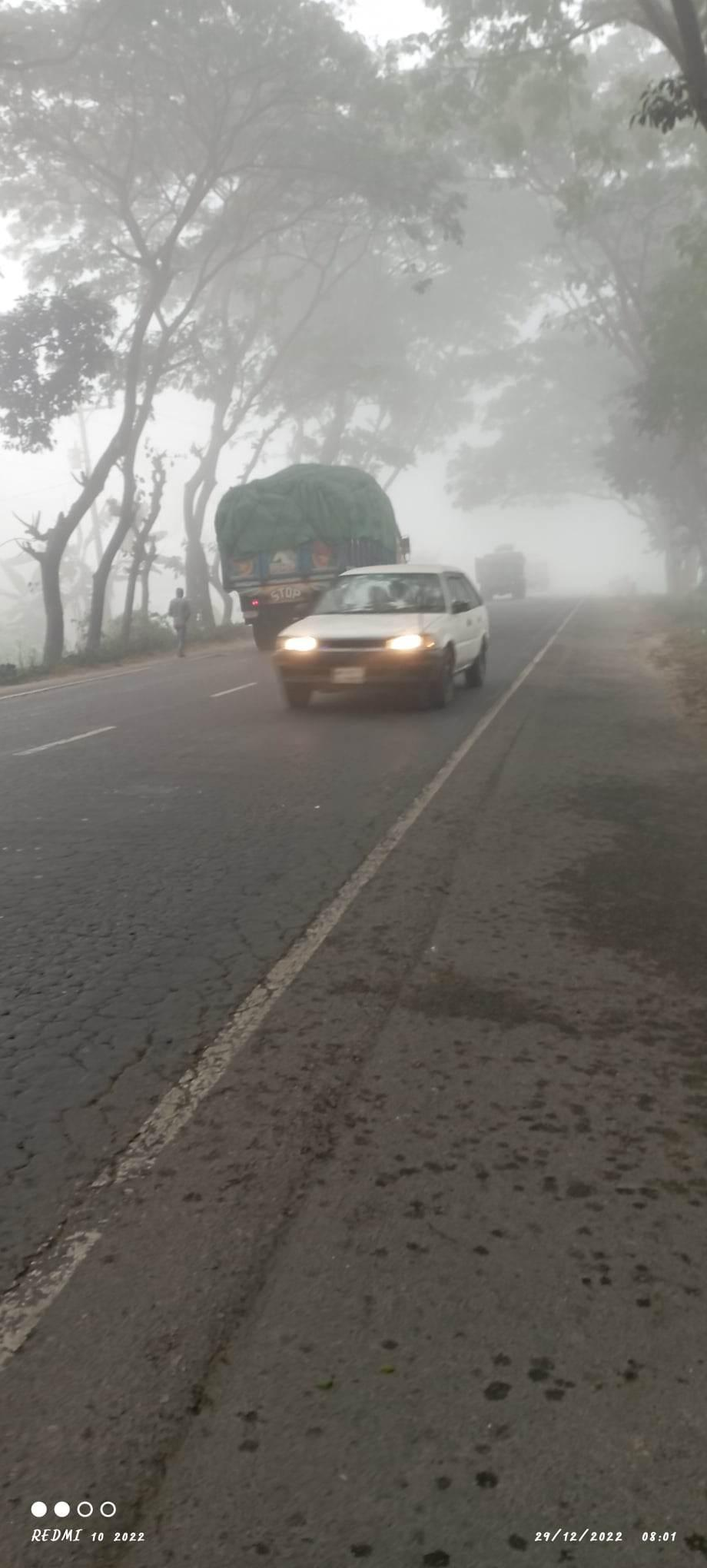Car: (263, 555, 526, 726)
Truck: (202, 452, 417, 635)
